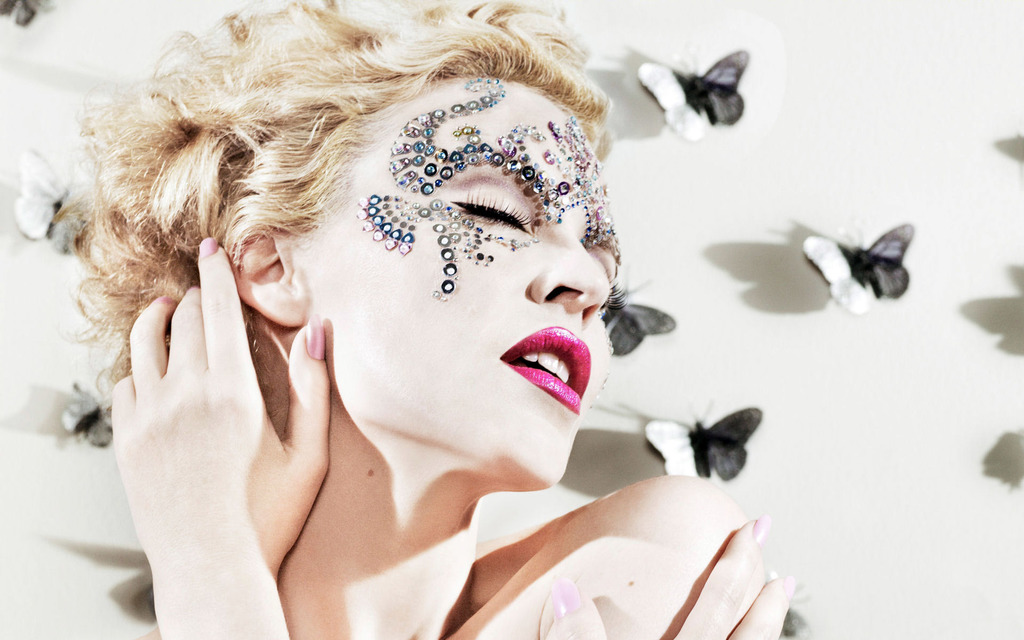Human_hand: (83, 173, 311, 623), (548, 513, 795, 639)
